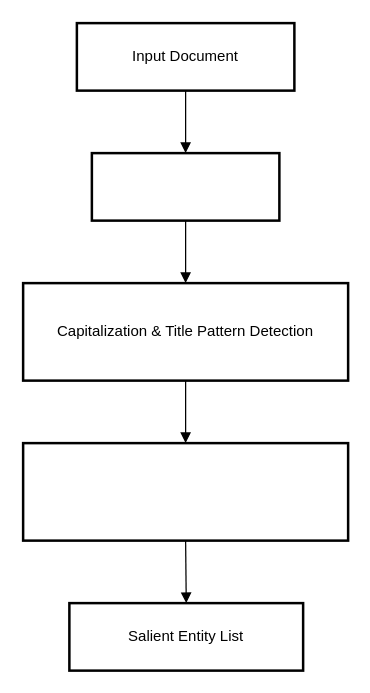
This 370x693 diagram has some shape labels left out. The box of each missing label's shape, as (x1, y1, x2, y2) in pixels:
Frequency Aggregation Across Documents: (21, 441, 349, 541)
Tokenization: (90, 151, 280, 221)
